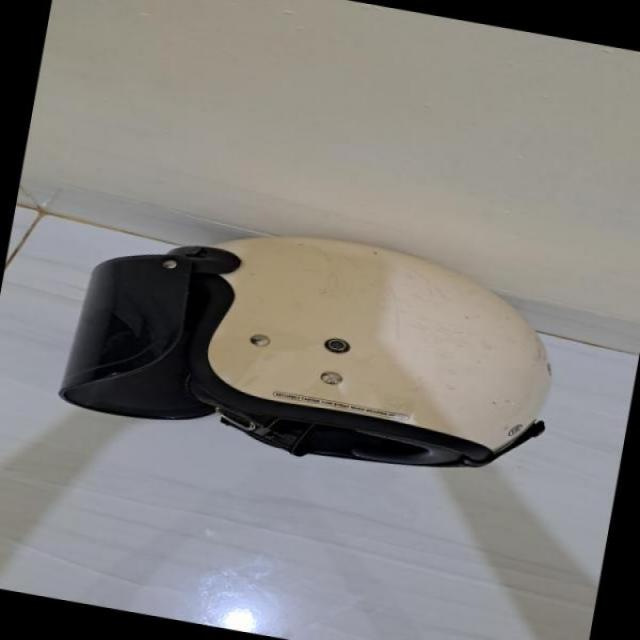Helmet: (72, 229, 577, 472)
